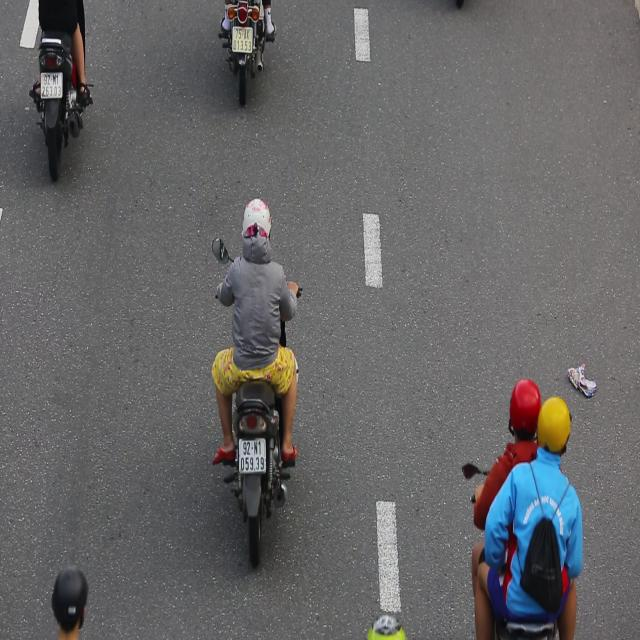motorbike: (204, 188, 303, 577)
